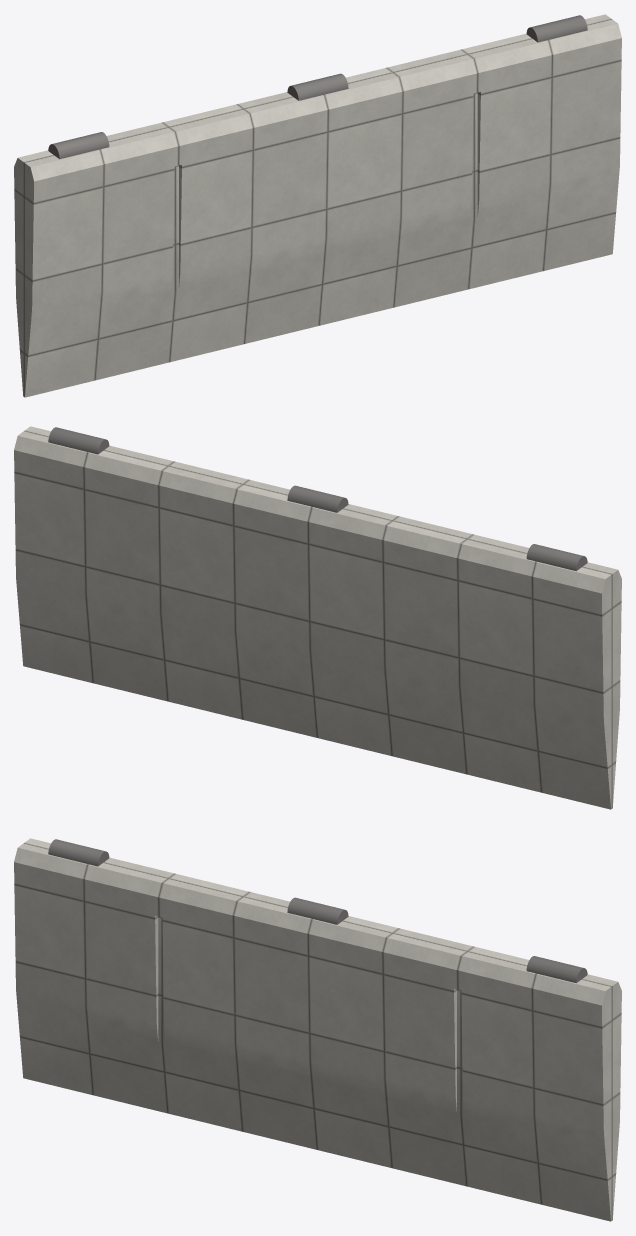
The model's file is ax_aero_23_cse_elevon_s.glb.
The picture shows the model from 3 angles, top to bottom: view 1: azimuth 30°, elevation 25°; view 2: azimuth 150°, elevation 25°; view 3: azimuth 330°, elevation 25°; orthographic projection.
Parts seen in each view (by area): view 1: surface, hinge_fittings; view 2: surface, hinge_fittings; view 3: surface, hinge_fittings.
Boxes of the visible parts, x1,y1,x2,y2 form: surface: [14, 14, 621, 397]; hinge_fittings: [48, 15, 587, 159]; surface: [14, 426, 621, 809]; hinge_fittings: [48, 427, 587, 571]; surface: [14, 838, 621, 1221]; hinge_fittings: [48, 839, 587, 983].
Size of the model in its own units: 1.18 by 0.4696 by 0.07.
Materials: 2 (2 with a texture image).
